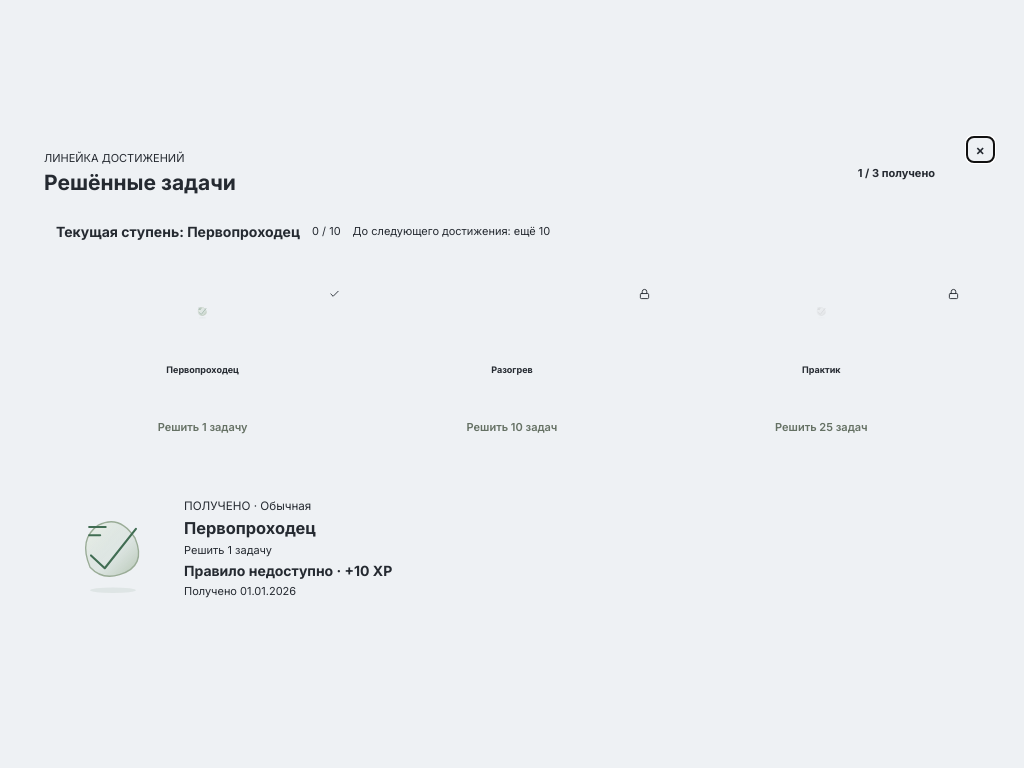
AchievementFamilyDialog selection › shows details for exactly the selected achievement
This screenshot has width=1024, height=768.
Click the button "Практик Решить 25 задач": (821, 370) 667,280 -> 976,460
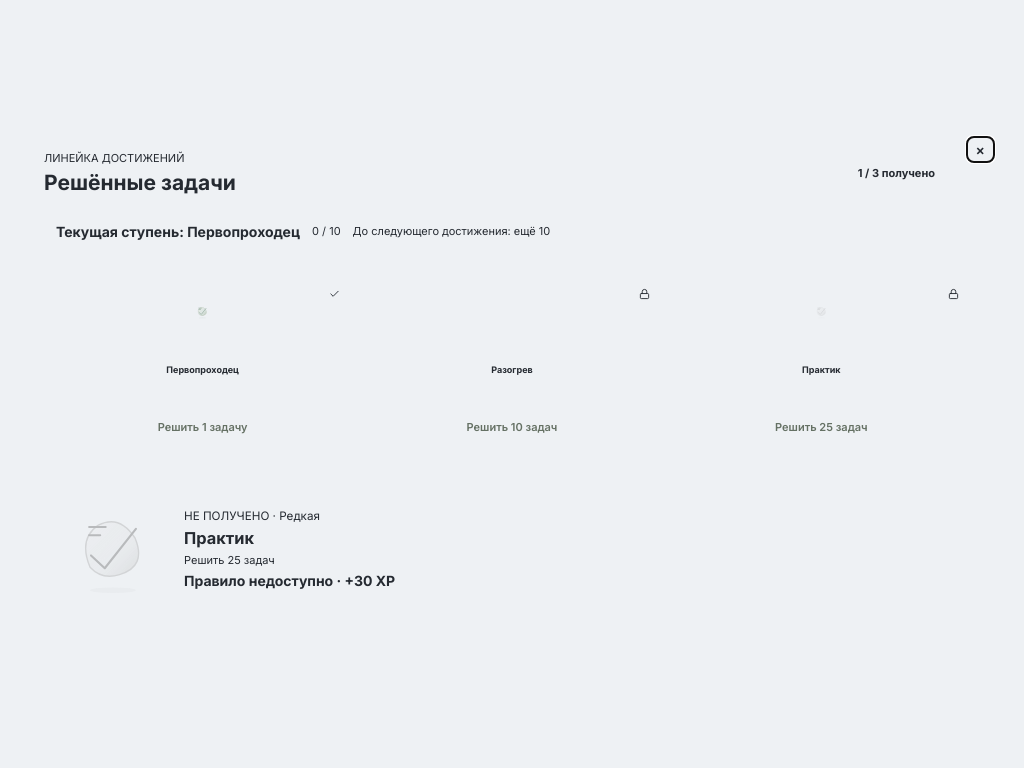
Now the heading "Практик" is shown, box 184,528 -> 254,548
